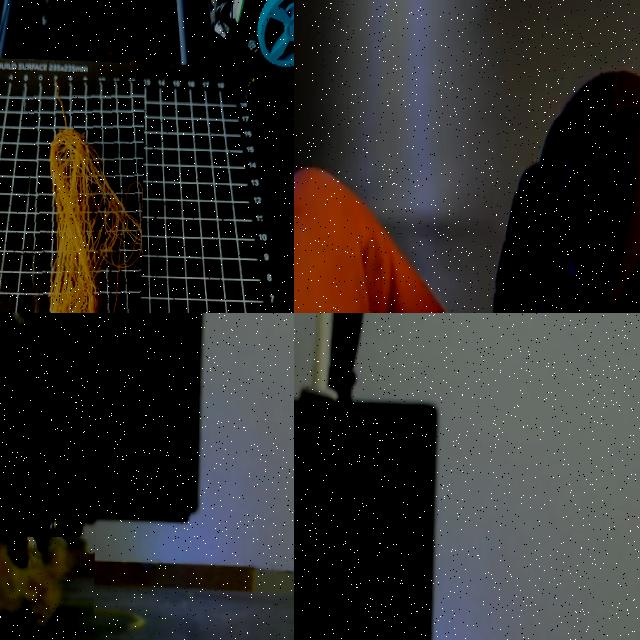spaghetti: (17, 78, 144, 313), (0, 535, 94, 625)
